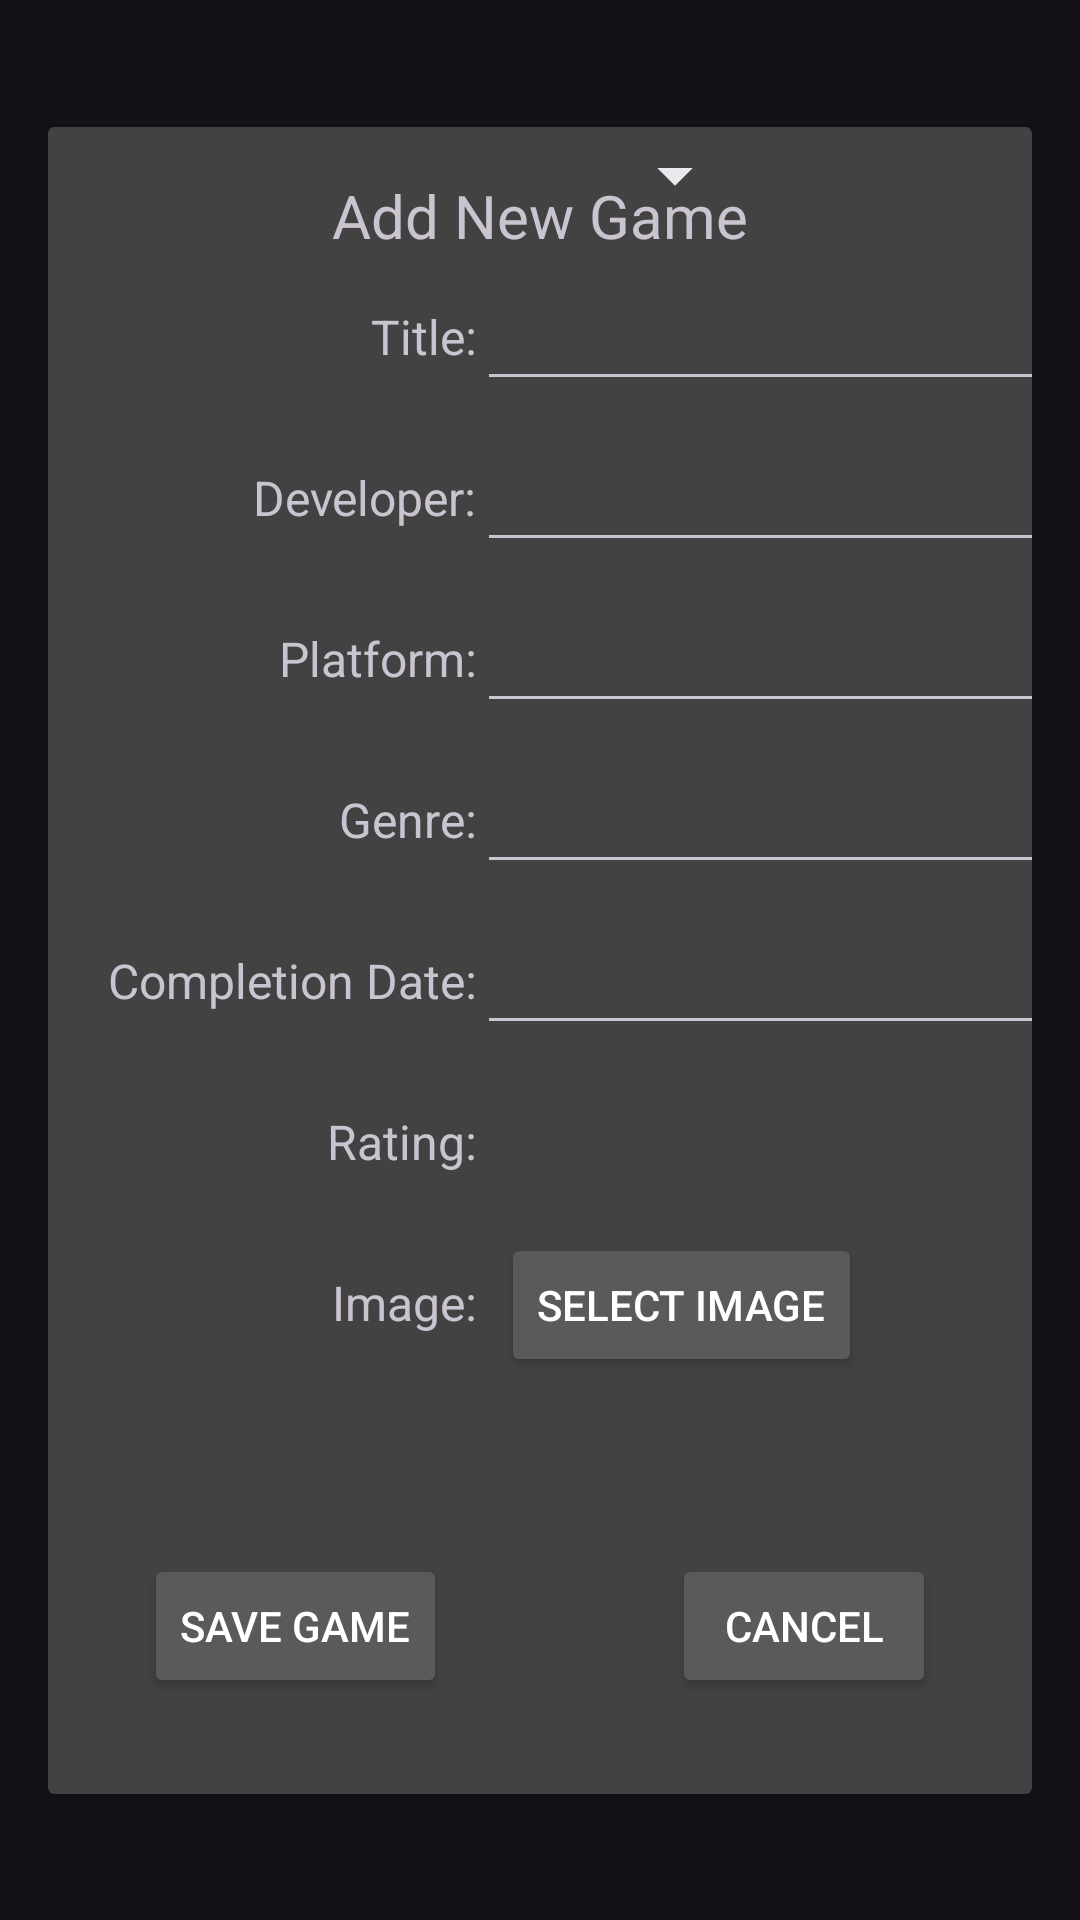

Icons on this 1080 × 1920 Android screen, each with the point to tap as [x,y]:
down arrow: [675,177]
